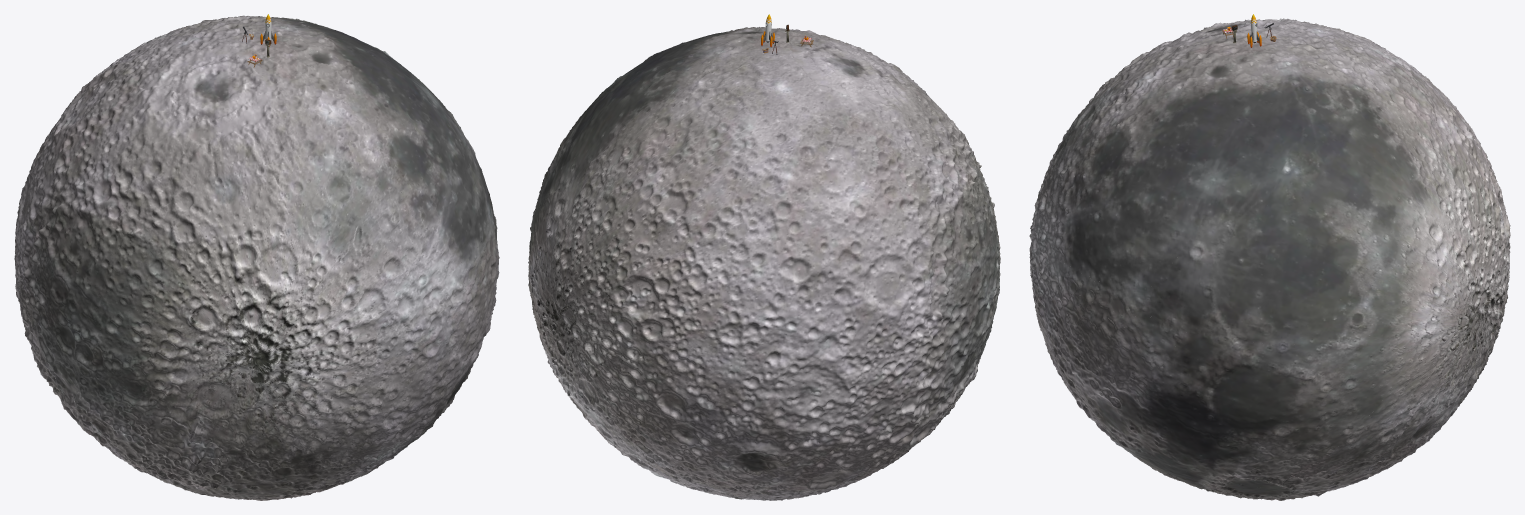
Rendered from Ochi_moon01.glb.
3 renders of one model, left to right at view 1: azimuth 30°, elevation 25°; view 2: azimuth 150°, elevation 25°; view 3: azimuth 270°, elevation 25°, orthographic. The views are drawn at different scales.
Parts seen in each view (by area): view 1: StudioOchi_Moon.001_0.001; view 2: StudioOchi_Moon.001_0.001; view 3: StudioOchi_Moon.001_0.001.
Boxes of the visible parts, left/top/right/bottom form: StudioOchi_Moon.001_0.001: left=14, top=15, right=499, bottom=500; StudioOchi_Moon.001_0.001: left=528, top=27, right=1000, bottom=500; StudioOchi_Moon.001_0.001: left=1029, top=18, right=1510, bottom=500.
Size of the model in its own units: 2.01 by 2.14 by 2.01.
Materials: 26 (6 with a texture image).
